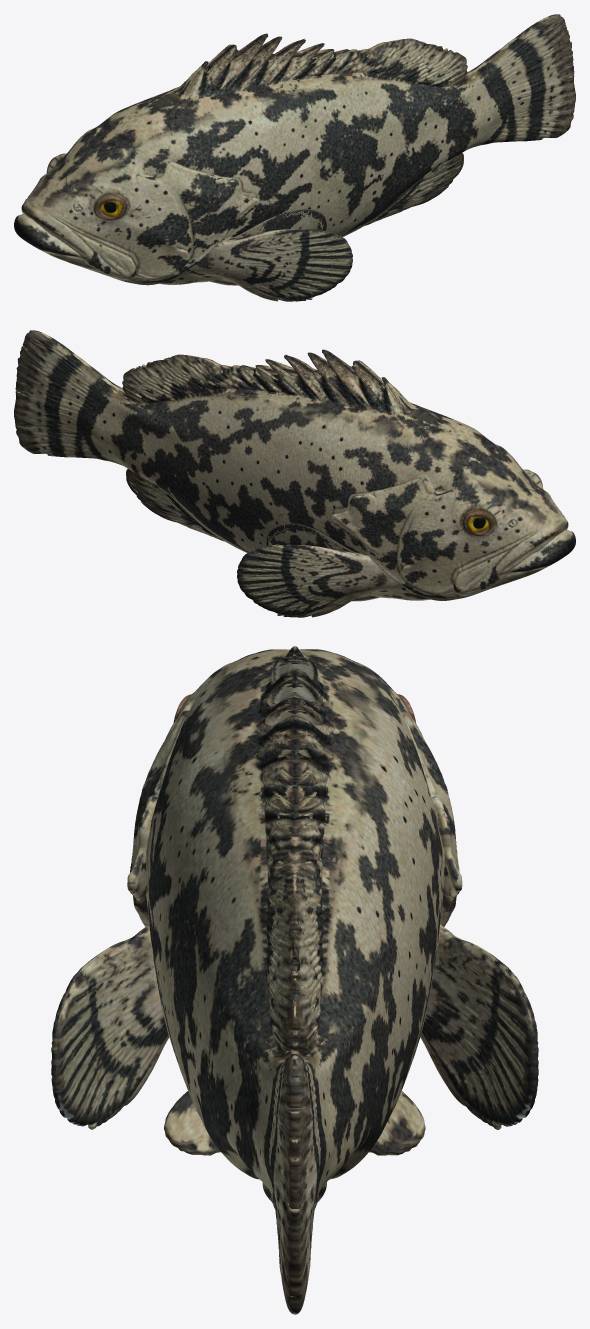
The model's file is mero-guasa.glb.
3 views of the same model, one above another, from view 1: azimuth 30°, elevation 25°; view 2: azimuth 150°, elevation 25°; view 3: azimuth 270°, elevation 25° (orthographic). The views are drawn at different scales.
Visible parts, largest first — view 1: Mero — costados restaurados; lomo y vientre corregidos; view 2: Mero — costados restaurados; lomo y vientre corregidos; view 3: Mero — costados restaurados; lomo y vientre corregidos.
Boxes of the visible parts, x1,y1,x2,y2 form: Mero — costados restaurados; lomo y vientre corregidos: (14, 14, 575, 301); Mero — costados restaurados; lomo y vientre corregidos: (14, 330, 575, 617); Mero — costados restaurados; lomo y vientre corregidos: (51, 646, 538, 1314).
Size of the model in its own units: 0.4904 by 0.1976 by 0.1857.
3 materials, 2 textured.
